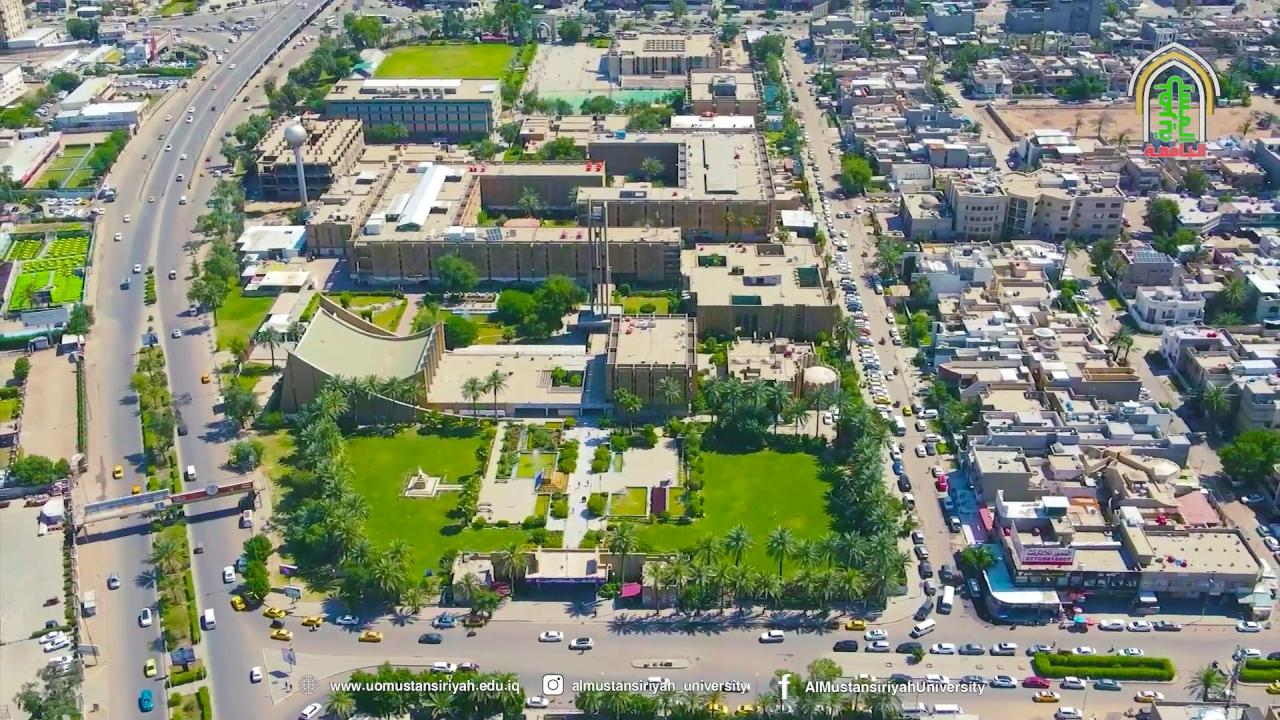car: (911, 618, 936, 638), (720, 679, 750, 694), (171, 647, 195, 664), (957, 642, 986, 656), (940, 586, 956, 611), (1032, 689, 1060, 703), (298, 703, 322, 719), (758, 630, 785, 644), (200, 608, 216, 631), (1235, 619, 1261, 633), (989, 642, 1017, 655), (1022, 675, 1050, 688), (1233, 647, 1261, 660), (648, 676, 674, 690), (432, 613, 456, 628), (990, 675, 1017, 688), (929, 642, 956, 655), (569, 637, 594, 651), (1134, 690, 1163, 702), (1054, 707, 1083, 719), (1152, 620, 1181, 632), (1060, 676, 1086, 689), (526, 695, 550, 709), (1094, 678, 1122, 690), (1097, 620, 1125, 632), (932, 704, 962, 715), (431, 661, 456, 674), (1127, 619, 1151, 632), (865, 628, 889, 641), (1026, 645, 1052, 657), (336, 613, 359, 626), (302, 616, 323, 630), (916, 601, 933, 618), (539, 630, 563, 642), (833, 640, 857, 652), (866, 640, 890, 652), (270, 628, 292, 641), (463, 613, 485, 626), (138, 607, 152, 627), (919, 558, 933, 578), (1240, 493, 1263, 505), (264, 606, 287, 618), (230, 595, 247, 611), (914, 543, 929, 561), (358, 631, 382, 642), (418, 633, 442, 644), (1118, 647, 1144, 657), (143, 659, 157, 677), (241, 508, 255, 526), (925, 674, 949, 684), (906, 512, 921, 528), (923, 579, 937, 596), (283, 586, 301, 599), (948, 514, 961, 532), (249, 666, 262, 683), (107, 573, 120, 590), (222, 566, 235, 583), (939, 564, 952, 581), (942, 494, 955, 511), (457, 662, 479, 672), (1073, 645, 1095, 655), (279, 565, 298, 576), (235, 557, 248, 573), (901, 493, 914, 509), (930, 463, 946, 476), (899, 475, 911, 492), (185, 464, 197, 481), (845, 620, 865, 630), (1267, 678, 1279, 694), (892, 460, 904, 475), (913, 532, 926, 544), (112, 464, 123, 478), (938, 476, 948, 489), (194, 543, 204, 555), (172, 329, 182, 338), (113, 232, 122, 241), (178, 195, 186, 205), (132, 264, 140, 274), (168, 270, 176, 279)
fountain: (606, 486, 648, 518), (516, 449, 556, 480), (440, 305, 491, 325), (666, 486, 692, 517), (533, 493, 550, 520)
tree: (639, 522, 910, 618), (265, 389, 371, 587), (323, 660, 526, 718), (138, 525, 198, 647), (11, 661, 84, 719), (1215, 427, 1279, 488), (860, 531, 909, 610), (368, 536, 416, 610), (192, 178, 245, 241), (721, 523, 756, 608), (604, 518, 641, 589), (674, 431, 704, 516), (189, 270, 231, 327), (457, 571, 500, 622), (493, 541, 530, 599), (59, 520, 79, 627), (535, 273, 581, 315), (764, 524, 798, 578), (435, 253, 478, 295), (201, 239, 239, 285), (696, 335, 735, 379), (1200, 382, 1231, 436), (1183, 663, 1227, 701), (640, 560, 670, 615), (72, 353, 88, 454), (222, 386, 259, 429), (1144, 195, 1180, 238), (721, 522, 756, 565), (496, 288, 536, 325), (455, 471, 482, 525), (9, 454, 56, 485), (839, 152, 872, 196), (612, 386, 643, 432), (1085, 236, 1115, 283), (483, 367, 508, 422), (901, 300, 929, 348), (442, 312, 479, 348), (832, 308, 858, 358), (723, 208, 760, 243), (241, 558, 271, 601), (873, 236, 903, 279), (780, 395, 810, 437), (227, 438, 264, 472), (959, 542, 996, 574), (419, 687, 456, 719), (460, 376, 486, 420), (323, 685, 356, 719), (254, 326, 280, 368), (409, 299, 440, 334), (692, 530, 722, 565), (1107, 326, 1133, 366), (458, 571, 482, 614), (806, 656, 842, 684), (589, 445, 610, 492), (1218, 274, 1246, 309), (469, 587, 500, 618), (242, 533, 274, 563), (226, 336, 248, 377), (654, 373, 681, 406), (608, 431, 629, 472), (1058, 238, 1078, 280), (556, 439, 579, 474), (474, 439, 493, 478), (517, 185, 540, 217), (639, 155, 664, 184), (66, 303, 88, 335), (909, 274, 931, 305), (708, 345, 728, 378), (794, 176, 812, 209), (194, 686, 210, 720), (12, 356, 32, 381), (142, 270, 156, 305)
